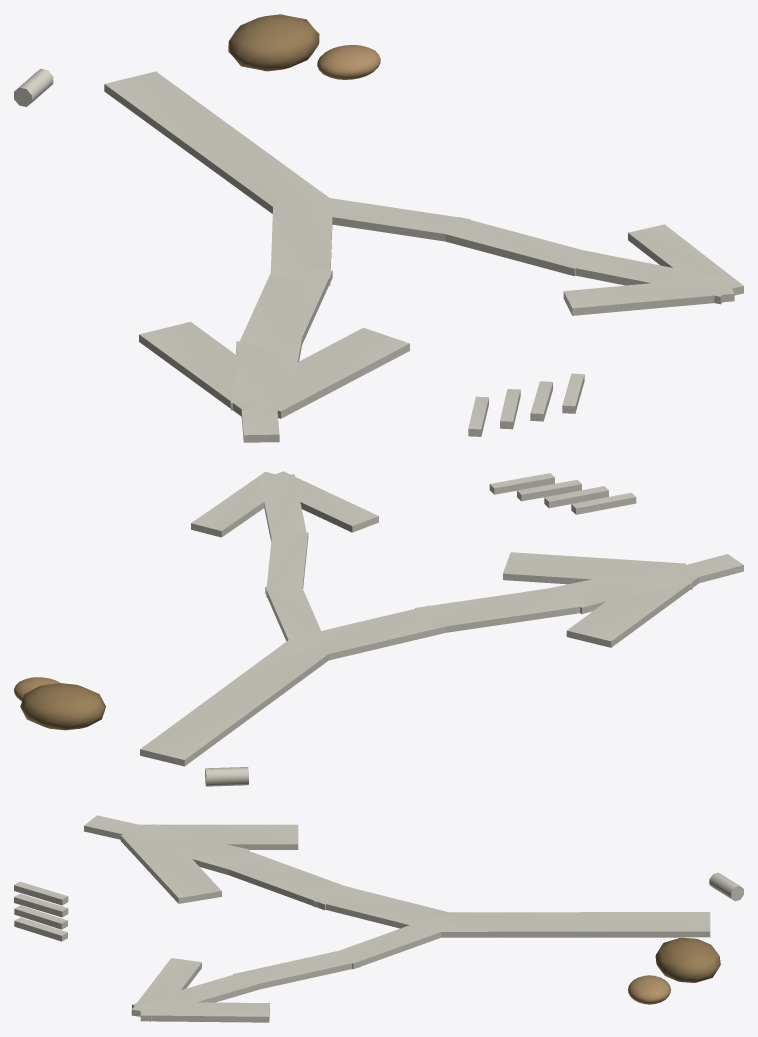
The model's file is chalk_turn_b.glb.
The picture shows the model from 3 angles, top to bottom: view 1: azimuth 30°, elevation 25°; view 2: azimuth 150°, elevation 25°; view 3: azimuth 270°, elevation 25°; orthographic projection. The views are drawn at different scales.
Visible parts, largest first — view 1: Surface; view 2: Surface; view 3: Surface.
Part boxes in pixels (<box>): Surface: <box>14,14,743,442</box>; Surface: <box>14,471,743,786</box>; Surface: <box>14,815,743,1022</box>.
Size of the model in its own units: 3.7 by 0.3185 by 5.67.
